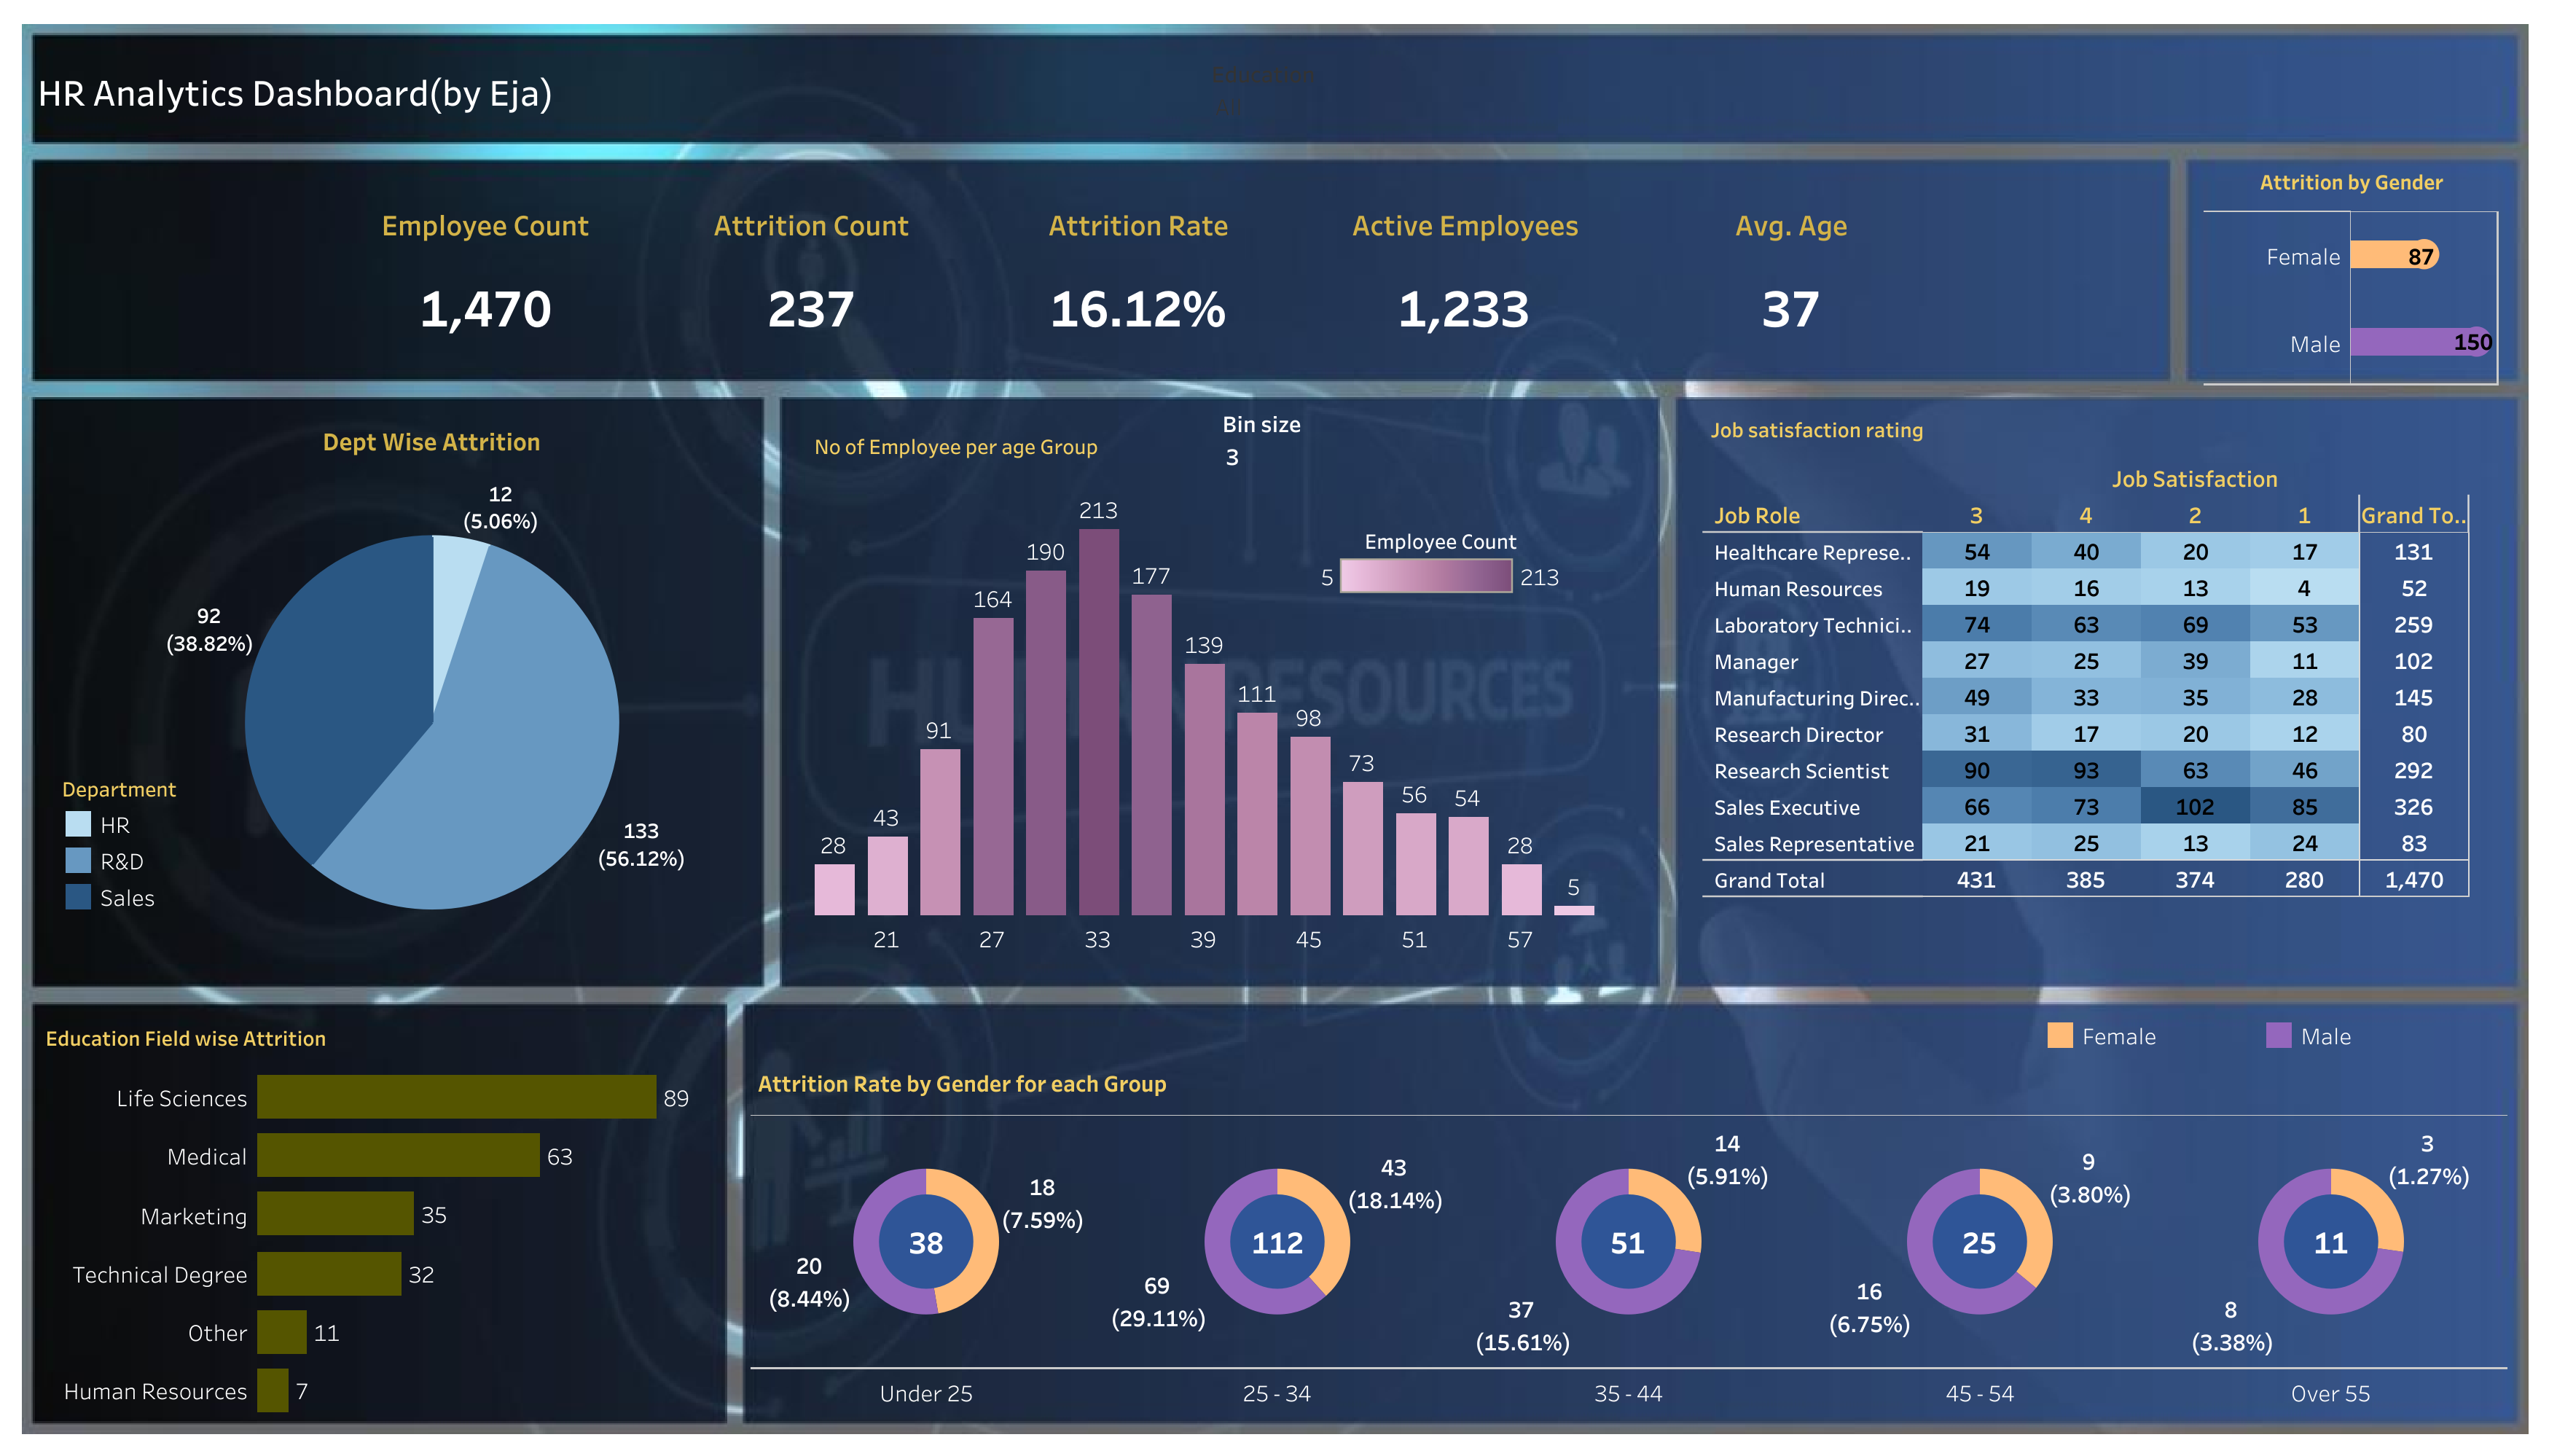

The page's visual inventory and layout, read from the dashboard file:
{"tool":"tableau","page":{"name":"HR Data Analytics","canvas":[1400,800],"ordinal":0},"visuals":[{"type":"image","param":"Image/HR background.pptx.jpg","box":[8,8,1384,784]},{"type":"text","box":[18,15,484,71]},{"type":"filter","title":"Dept Wise Attrition","param":"[federated.0j8taly1tvmonp151h1gp0cvlb5r].[none:Education:nk]","box":[665,30,238,43]},{"type":"worksheet","title":"Attrition by Gender","mark":"Circle","rows":["Gender"],"cols":["Calculation_916201051895697408","Calculation_916201051895697408"],"box":[1210,86,162,126]},{"type":"worksheet","title":"KPI","mark":"Automatic","box":[177.3,93.3,896,109.3]},{"type":"parameter","param":"[Parameters].[Parameter 1]","box":[671,222,235,45]},{"type":"worksheet","title":"Job satisfaction rating","mark":"Square","rows":["Job Role"],"cols":["Job Satisfaction"],"box":[935,222,438,320]},{"type":"worksheet","title":"Dept Wise Attrition","mark":"Pie","box":[85,226,304.1,307]},{"type":"worksheet","title":"No of Employee per age Group","mark":"Automatic","rows":["Employee Count"],"cols":["Age (bin)"],"box":[443,231,435,293]},{"type":"legend","title":"No of Employee per age Group","param":"[federated.0j8taly1tvmonp151h1gp0cvlb5r].[sum:Employee Count:qk]","box":[721,283,140,64]},{"type":"legend","title":"Dept Wise Attrition","param":"[federated.0j8taly1tvmonp151h1gp0cvlb5r].[none:Department:nk]","box":[32.7,423,119.5,113]},{"type":"worksheet","title":"Education Field wise Attrition","mark":"Automatic","rows":["Education Field"],"cols":["Calculation_916201051895697408"],"box":[21,556,374,223]},{"type":"legend","title":"Attrition Rate by Gender for each Group","param":"[federated.0j8taly1tvmonp151h1gp0cvlb5r].[none:Gender:nk]","box":[1121,558,262,32]},{"type":"worksheet","title":"Attrition Rate by Gender for each Group","mark":"Pie","rows":["Calculation_944630027201576961","Calculation_944630027201576961"],"cols":["CF_age band"],"box":[412,579,965,196]}]}

Visuals, with their boxes in screenshot pixels (x1, y1, x2, y2), scaled from the page's 1400x800 canvas onto the 2549x1456 screenshot:
image: locate(15, 15, 2534, 1441)
text: locate(33, 27, 914, 157)
"Dept Wise Attrition" filter: locate(1211, 55, 1644, 133)
"Attrition by Gender" worksheet (Circle marks): locate(2203, 157, 2498, 385)
"KPI" worksheet: locate(323, 170, 1954, 369)
parameter: locate(1222, 404, 1650, 486)
"Job satisfaction rating" worksheet (Square marks): locate(1702, 404, 2500, 987)
"Dept Wise Attrition" worksheet (Pie marks): locate(154, 411, 708, 970)
"No of Employee per age Group" worksheet: locate(807, 420, 1599, 954)
"No of Employee per age Group" legend: locate(1312, 515, 1567, 632)
"Dept Wise Attrition" legend: locate(60, 770, 277, 976)
"Education Field wise Attrition" worksheet: locate(38, 1012, 719, 1418)
"Attrition Rate by Gender for each Group" legend: locate(2041, 1016, 2518, 1074)
"Attrition Rate by Gender for each Group" worksheet (Pie marks): locate(750, 1054, 2507, 1411)
